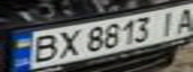1: (118, 17, 139, 45)
3: (130, 14, 157, 43)
8: (84, 24, 109, 53), (103, 20, 124, 50)
A: (169, 5, 193, 35)
B: (21, 31, 63, 64)
I: (151, 7, 184, 37)
X: (51, 27, 84, 60)
